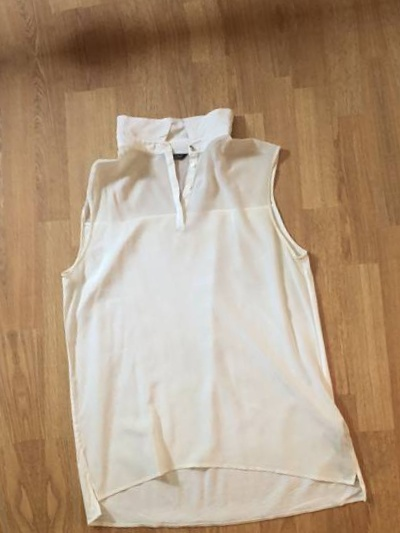Blouse: (16, 68, 400, 533), (0, 130, 12, 533), (0, 0, 320, 3)
